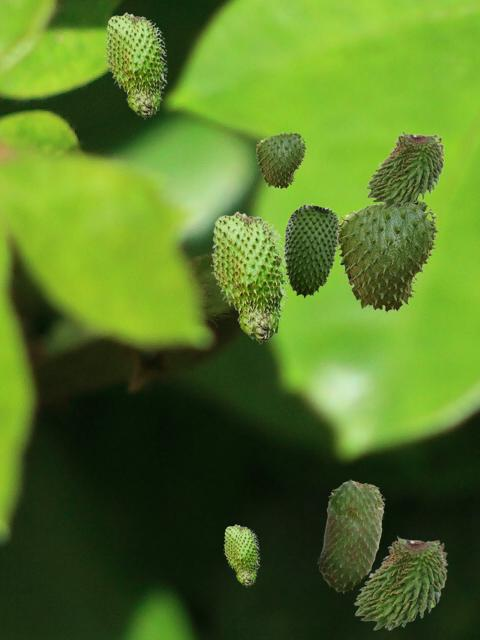guyabano: (336, 200, 439, 314), (210, 211, 288, 343), (353, 535, 447, 629), (317, 479, 384, 592), (104, 12, 167, 118), (365, 130, 444, 209), (283, 203, 339, 297), (256, 131, 306, 189), (223, 524, 259, 586)
